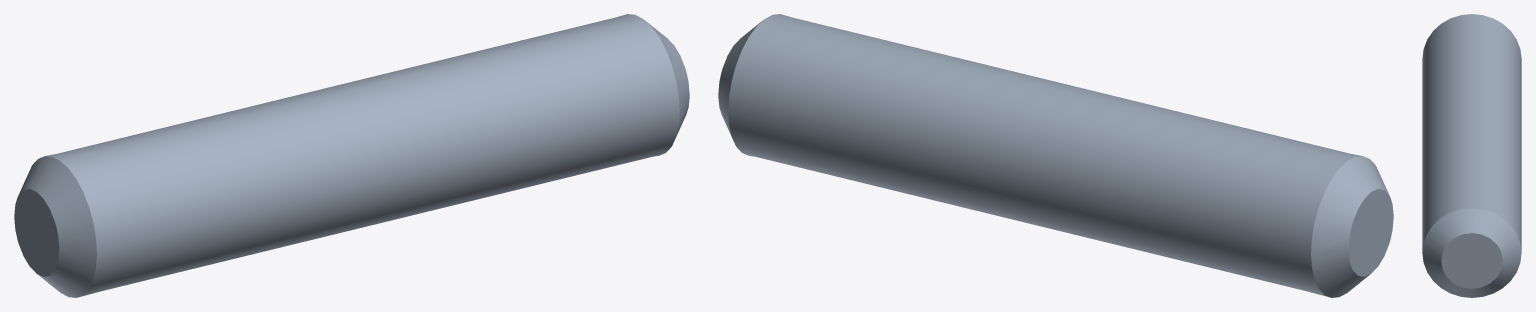
File: rocker_arm_pin_two.obj
3 views of the same model, side by side, from view 1: azimuth 30°, elevation 25°; view 2: azimuth 150°, elevation 25°; view 3: azimuth 270°, elevation 25° (orthographic). The views are drawn at different scales.
Visible parts, largest first — view 1: 1; view 2: 1; view 3: 1.
Part boxes in pixels (left/top/right/bottom): 1: left=14, top=14, right=689, bottom=297; 1: left=718, top=14, right=1393, bottom=297; 1: left=1422, top=14, right=1521, bottom=297.
Size of the model in its own units: 15.87 by 3.17 by 3.17.
